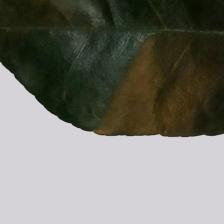healthy: (0, 0, 224, 136)
